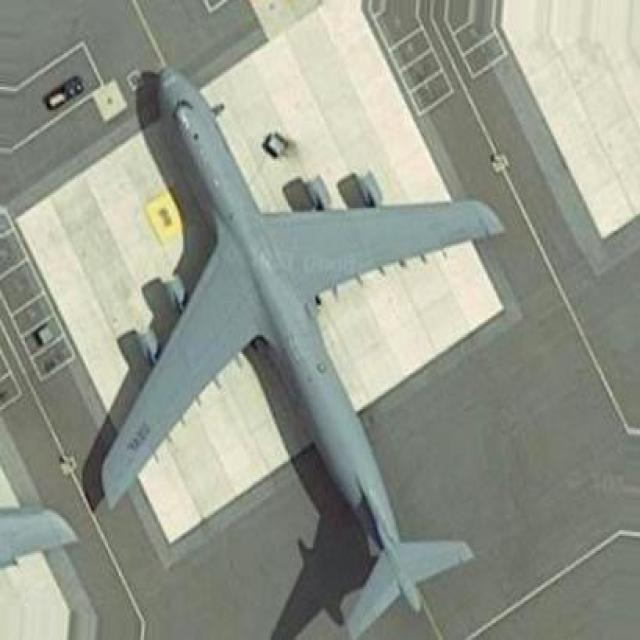C-5_TopDown: (78, 63, 507, 638)
